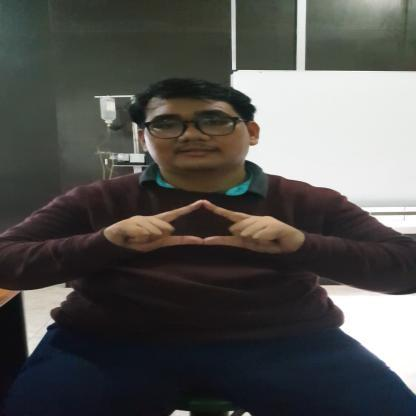A: (103, 198, 305, 255)
